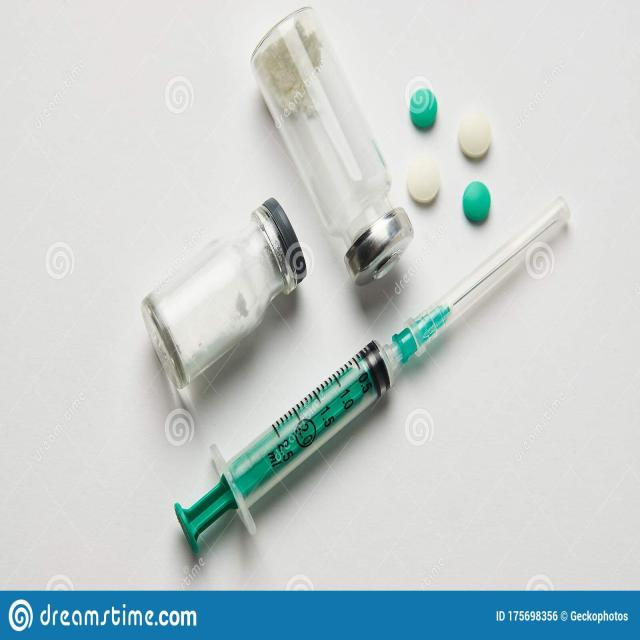B3: (248, 7, 415, 305), (125, 190, 322, 403)
